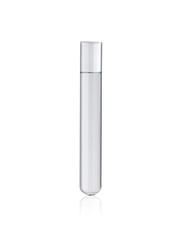Test tube: (75, 36, 104, 201)
